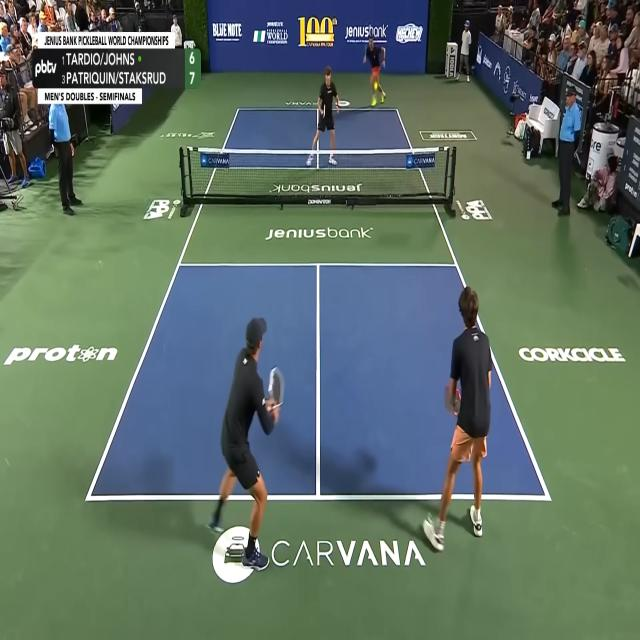ball: (374, 80, 378, 90)
